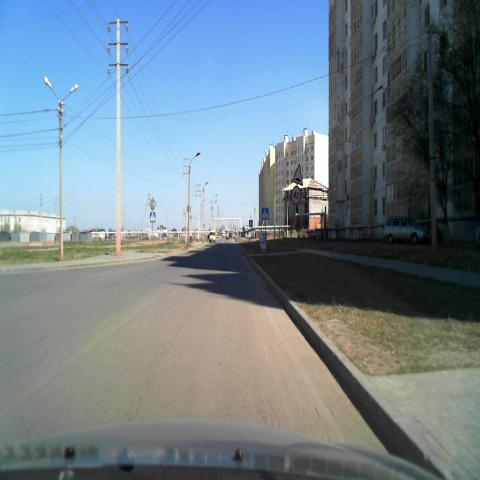1_17: (292, 165, 303, 186)
3_24: (292, 186, 301, 204)
5_19_1: (262, 207, 269, 220), (150, 212, 155, 222)
